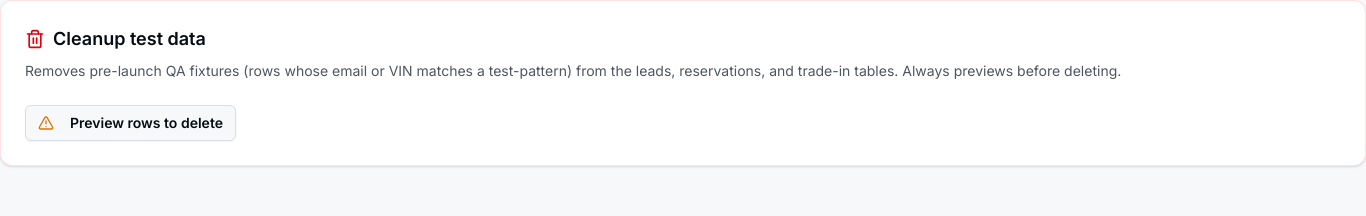
Test: CleanupTestDataCard › recovers after error via Try again
Click the button "Preview rows to delete".
click(130, 123)  # box [25,105,236,141]
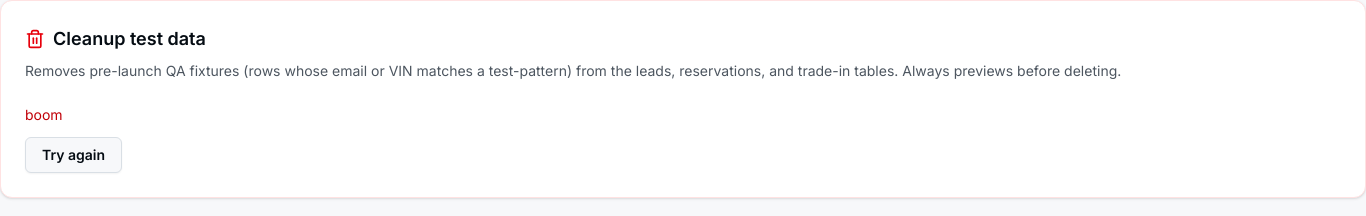
Click the button "Try again".
click(74, 155)  # box [25,137,122,173]
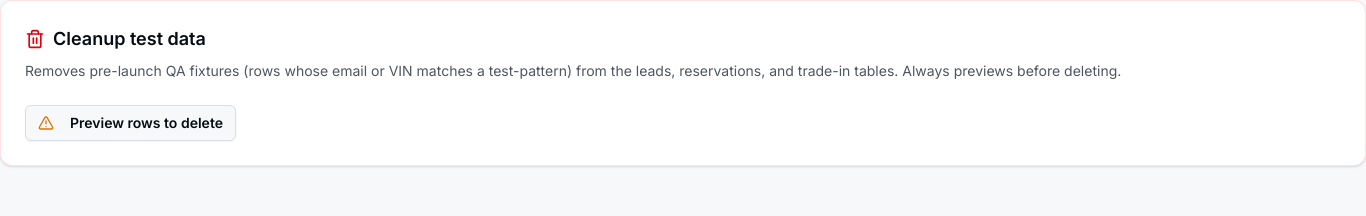
Now the button "Preview rows to delete" is shown, box [25,105,236,141]
